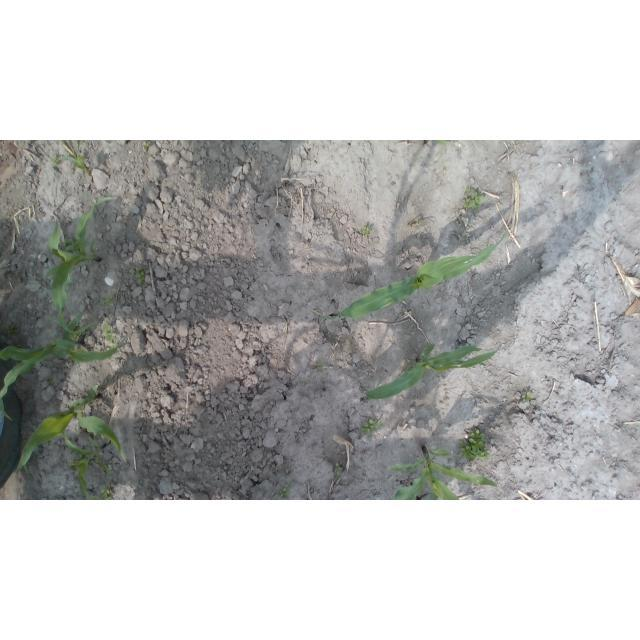Maize: (310, 227, 507, 323), (0, 313, 130, 422), (15, 383, 130, 486), (44, 196, 120, 339), (363, 342, 500, 402), (385, 441, 498, 499), (62, 429, 115, 500), (57, 141, 92, 175)
Weeds: (459, 428, 495, 463), (463, 186, 486, 210), (360, 419, 380, 438), (101, 324, 119, 344), (279, 483, 293, 499), (101, 295, 119, 307), (101, 488, 114, 501), (135, 271, 146, 286), (336, 464, 345, 477), (361, 227, 372, 237), (521, 393, 533, 400), (317, 363, 325, 371)
